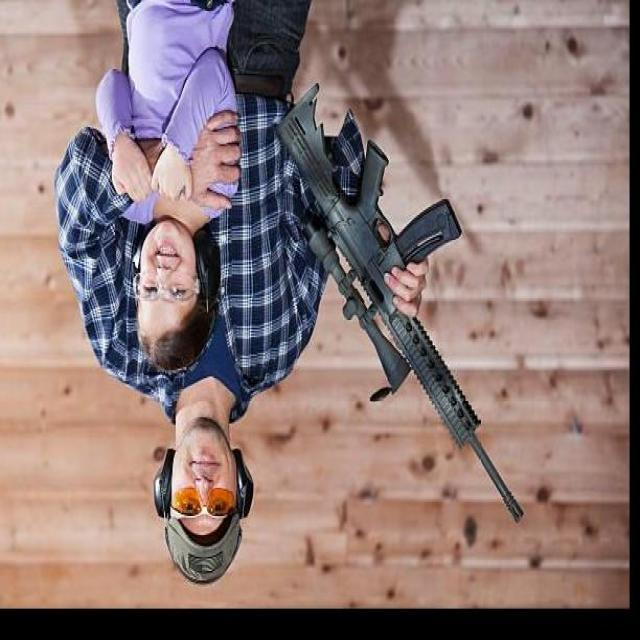weapon: (275, 82, 524, 525)
